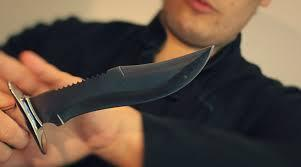Knife: (0, 0, 301, 167), (37, 45, 213, 126), (0, 52, 89, 167)
